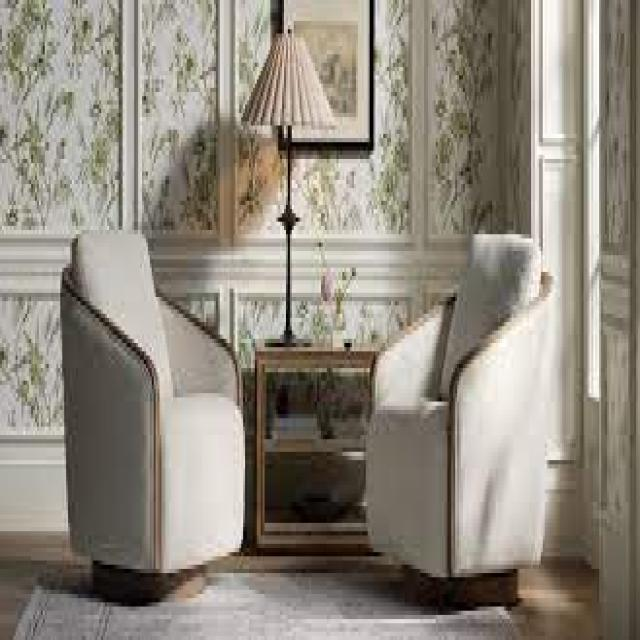chair: (350, 176, 584, 640), (44, 134, 256, 640)
